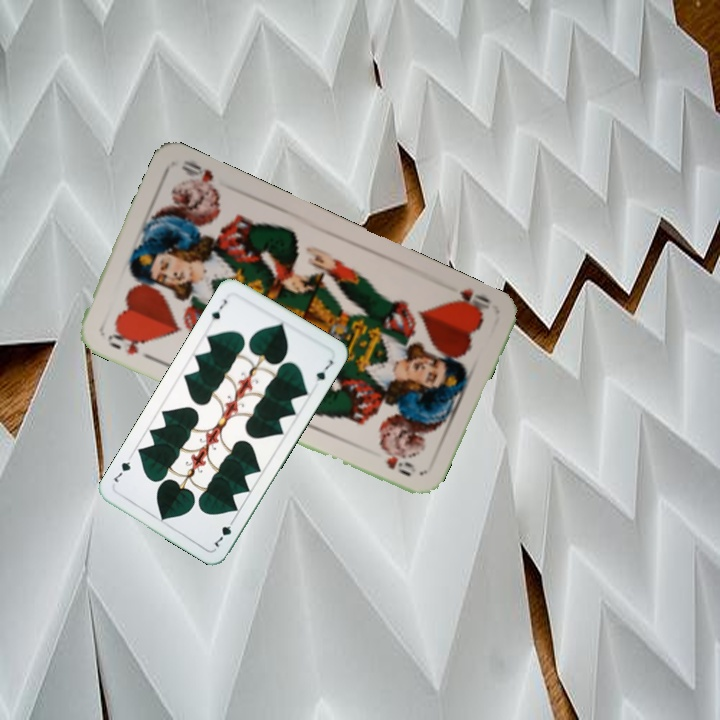G7: (210, 514, 238, 550), (207, 295, 230, 323)
HO: (442, 283, 493, 319), (103, 325, 148, 358)
